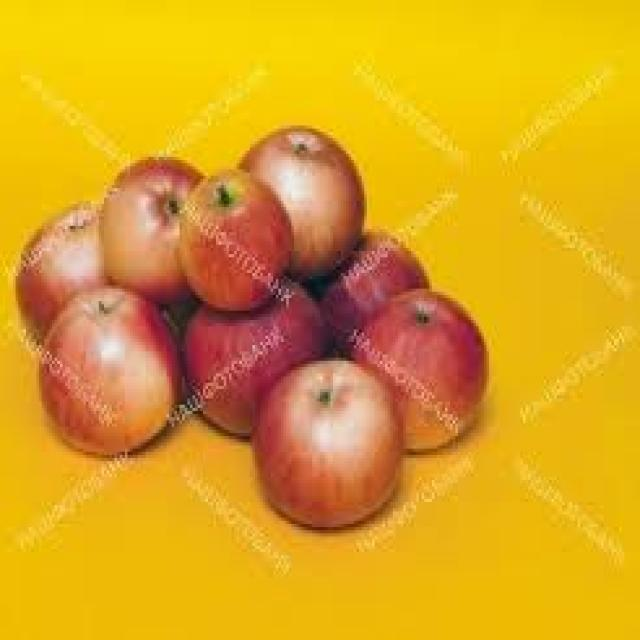non_orange: (343, 284, 509, 462), (253, 343, 401, 540), (27, 274, 174, 458), (220, 94, 370, 274), (292, 185, 434, 370), (8, 169, 132, 363), (168, 296, 328, 440), (172, 144, 299, 304), (90, 128, 206, 290)
